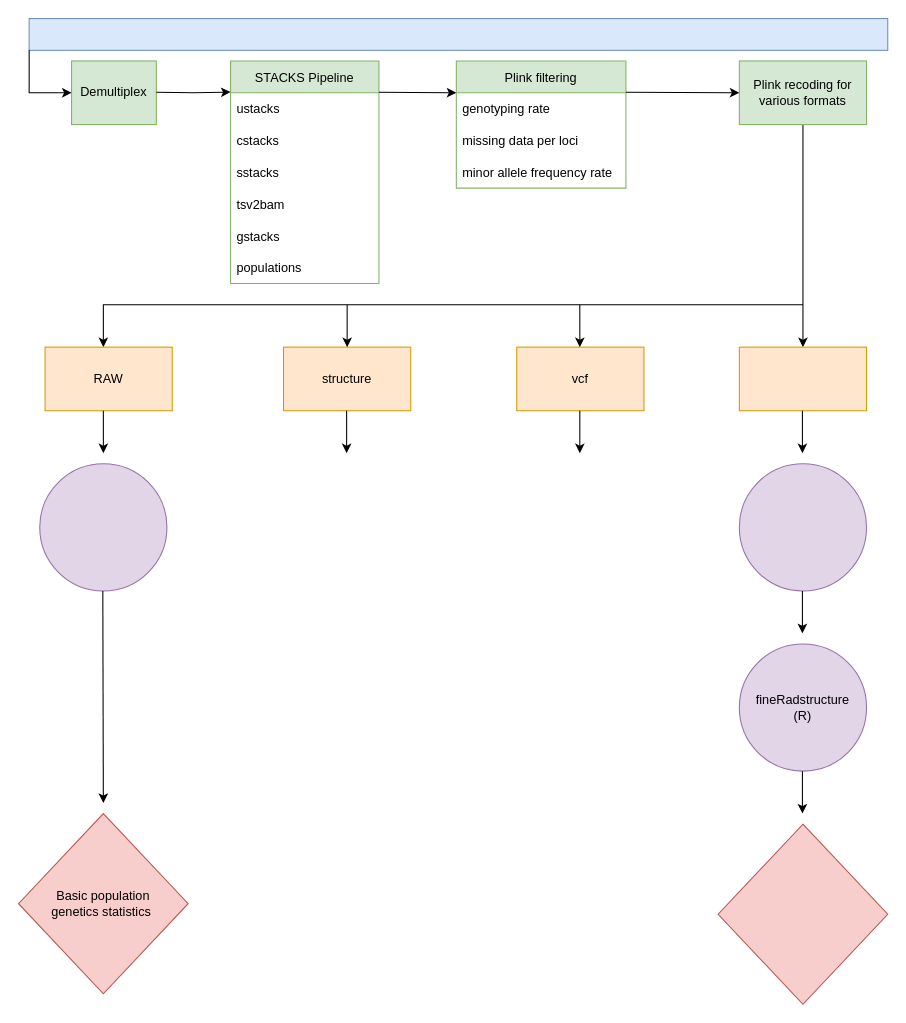
The diagram is 906 pixels wide and 1023 high, and some of its shapes have lost their labels. Each missing label, with the centre of its shape:
"adegenet (R)" goes at pixel 103 527.
"Coancestry matrix identifying populations" goes at pixel 802 913.
"fineRADstructure (unix)" goes at pixel 802 527.
"radpainter" goes at pixel 802 378.
"Raw Genomic Data" goes at pixel 458 33.
